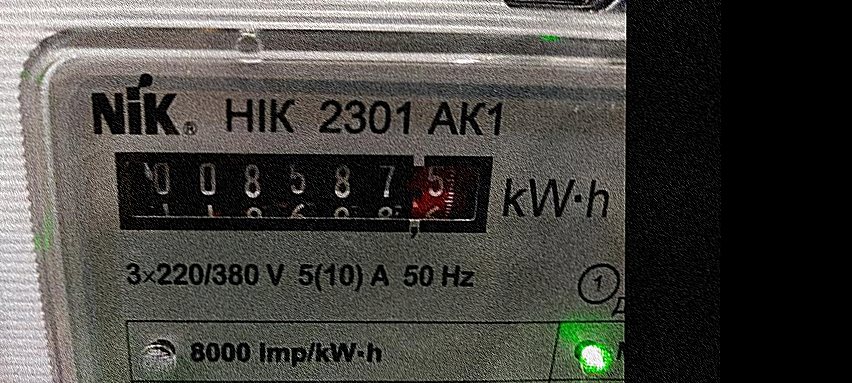0: (194, 158, 218, 198)
1: (148, 157, 172, 199)
5: (423, 160, 447, 200), (285, 159, 308, 197)
7: (374, 161, 397, 202)
8: (238, 160, 263, 201), (330, 160, 351, 202)
screen: (92, 132, 511, 253)
